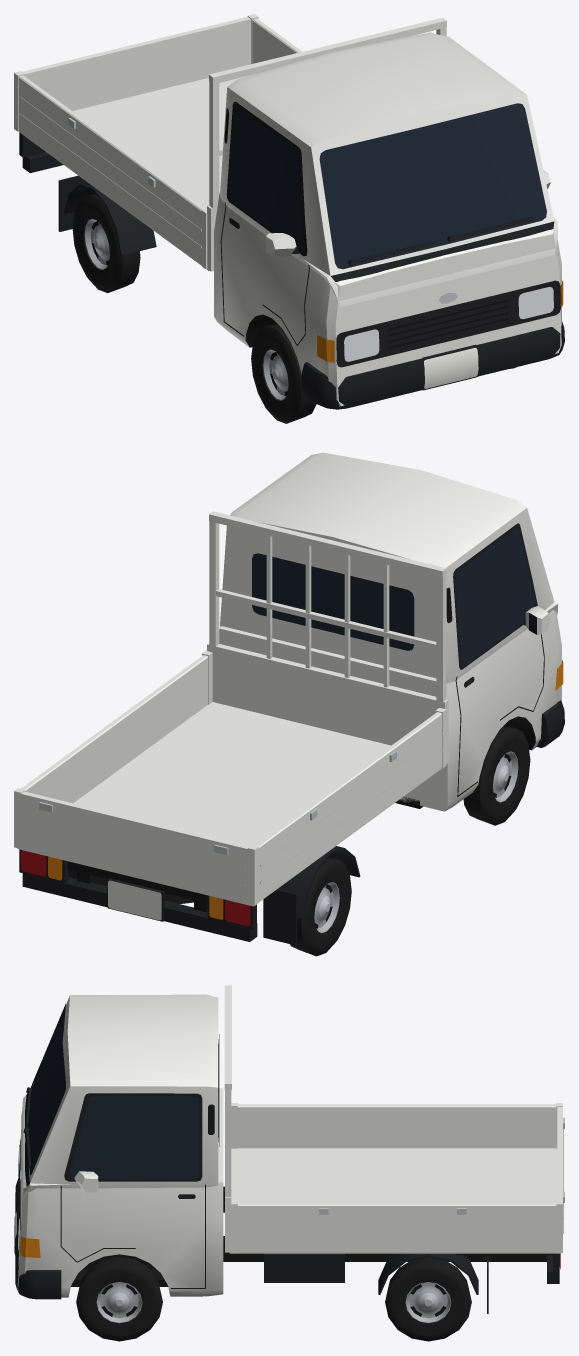
The model's file is traffic_kei_truck.glb.
3 renders of one model, top to bottom at view 1: azimuth 30°, elevation 25°; view 2: azimuth 150°, elevation 25°; view 3: azimuth 270°, elevation 25°, orthographic. The views are drawn at different scales.
Visible parts, largest first — view 1: body, wheel_RR, wheel_FR; view 2: body, wheel_FR, wheel_RR; view 3: body, wheel_FL, wheel_RL.
Part boxes in pixels (x1,y1,x2,y2): body: [14, 14, 564, 409]; wheel_RR: [72, 194, 140, 293]; wheel_FR: [251, 324, 316, 423]; body: [14, 452, 564, 945]; wheel_FR: [463, 726, 530, 825]; wheel_RR: [290, 857, 351, 956]; body: [14, 985, 564, 1313]; wheel_FL: [76, 1257, 162, 1341]; wheel_RL: [385, 1257, 471, 1341].
Size of the model in its own units: 1.7 by 1.78 by 3.4.
